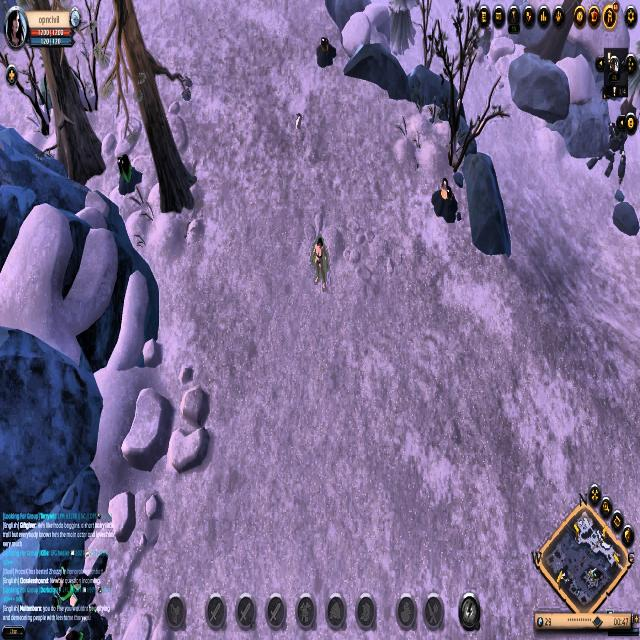copper_ore: (429, 178, 465, 225), (312, 38, 340, 71)
tin_ore: (114, 154, 145, 198)
